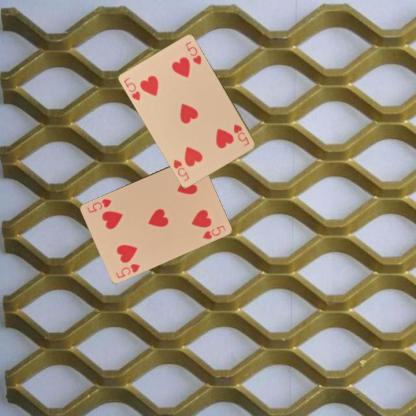5h: (121, 74, 142, 102), (231, 122, 251, 148), (113, 261, 141, 279)
